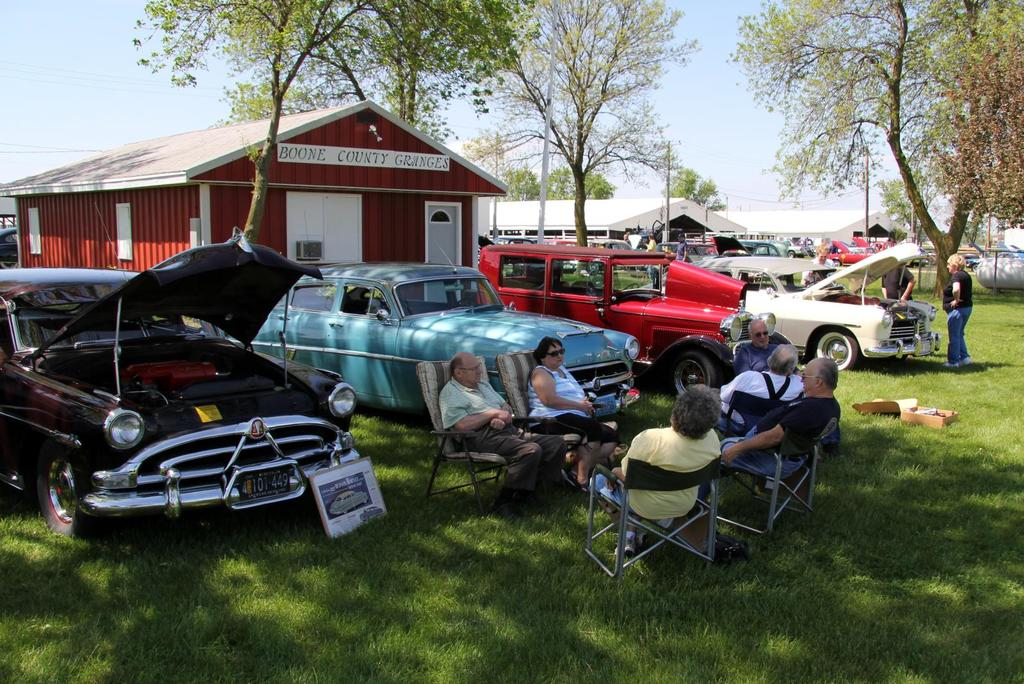Car: (0, 225, 346, 540), (244, 252, 639, 411), (472, 240, 773, 390), (737, 240, 942, 368)
